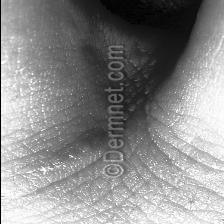Toxin: (43, 125, 86, 170)
